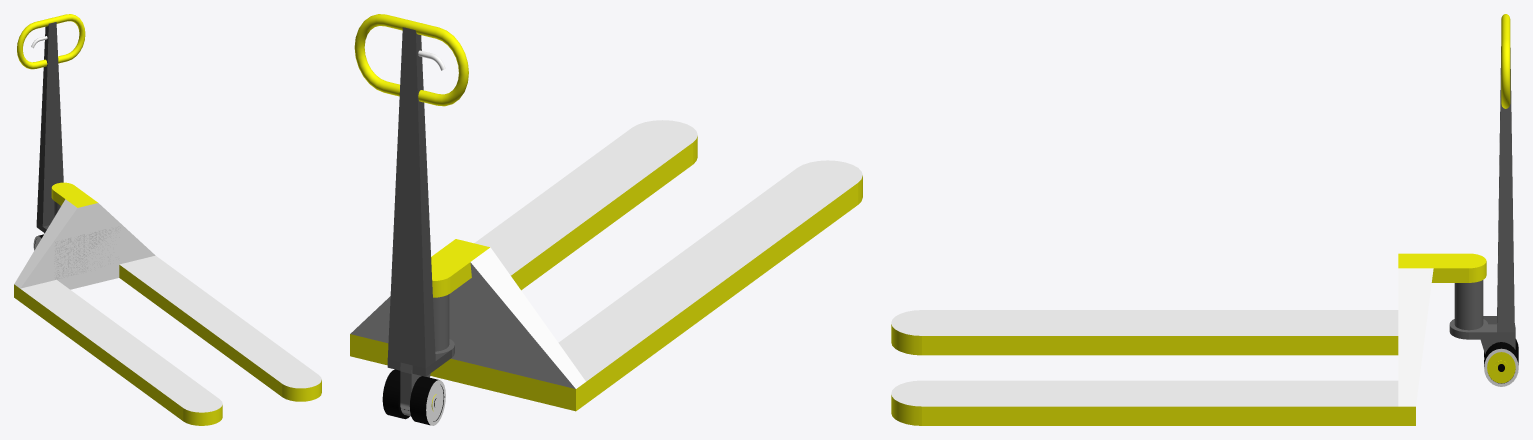
The model's file is SmallJockey.obj.
3 views of the same model, side by side, from view 1: azimuth 30°, elevation 25°; view 2: azimuth 150°, elevation 25°; view 3: azimuth 270°, elevation 25° (orthographic). The views are drawn at different scales.
Parts seen in each view (by area): view 1: Mesh1 ___14_1 Model, Mesh2 ___14_1 Model; view 2: Mesh1 ___14_1 Model; view 3: Mesh1 ___14_1 Model.
Boxes of the visible parts, <box> form: Mesh1 ___14_1 Model: <box>14,14,321,425</box>; Mesh2 ___14_1 Model: <box>54,226,120,279</box>; Mesh1 ___14_1 Model: <box>350,14,862,425</box>; Mesh1 ___14_1 Model: <box>891,14,1518,425</box>.
Size of the model in its own units: 540 by 914 by 1485.
